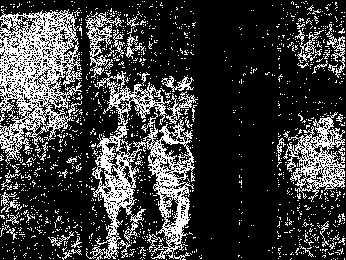person: (148, 123, 195, 252), (93, 136, 138, 253), (174, 75, 199, 148), (132, 71, 157, 134), (155, 74, 180, 135), (109, 71, 131, 136)
